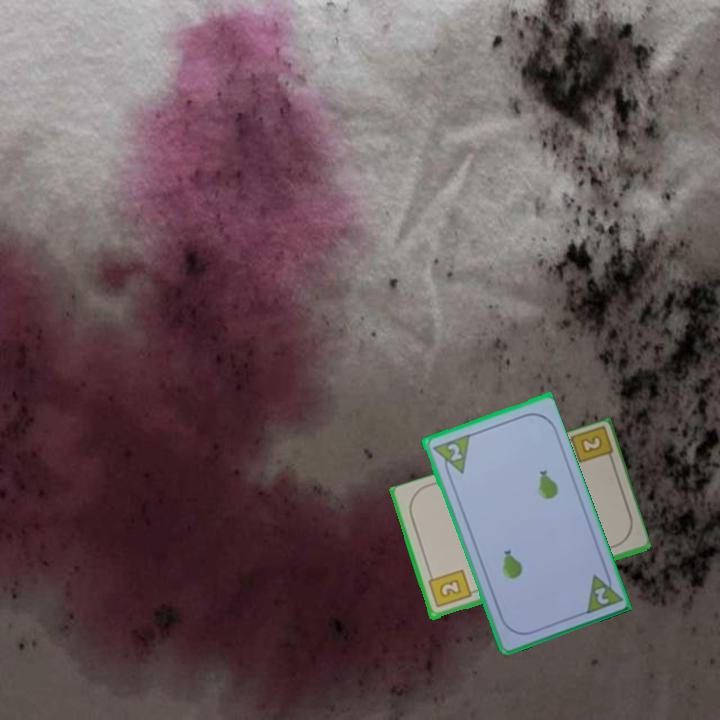2b: (565, 425, 617, 468), (425, 566, 474, 611)
2p: (581, 566, 624, 617), (443, 439, 465, 464)
